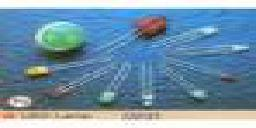LED: (167, 70, 206, 106), (17, 58, 114, 71), (183, 41, 253, 59), (133, 14, 166, 43), (137, 57, 152, 114), (210, 61, 237, 90), (53, 79, 74, 97), (94, 86, 112, 105), (196, 19, 215, 33)
